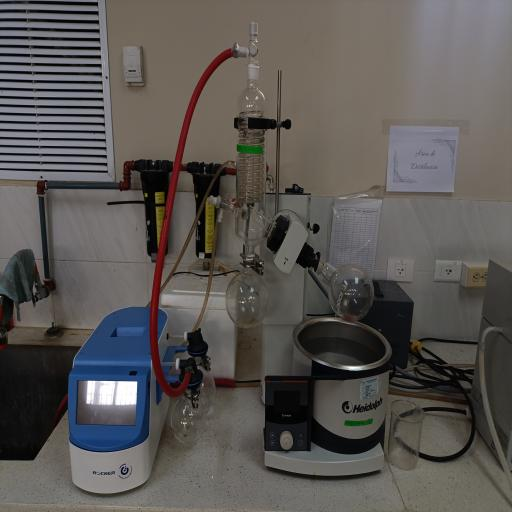Sistema_Rotaevaporacion: (60, 14, 417, 504)
